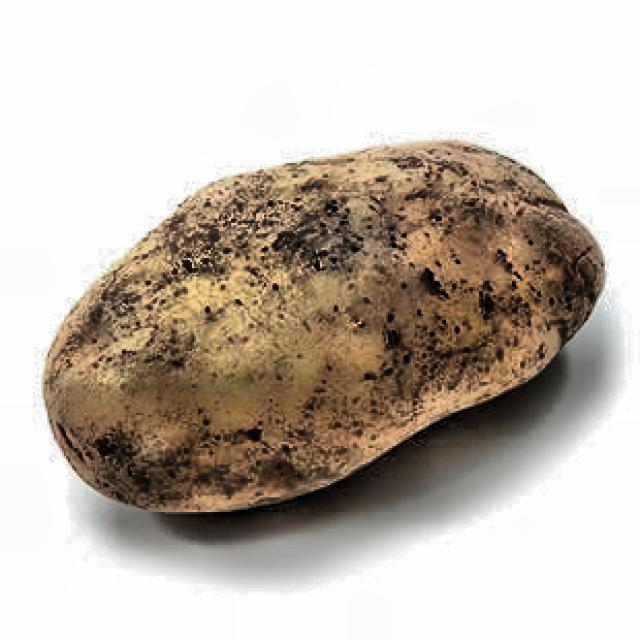potato: (17, 77, 622, 591)
